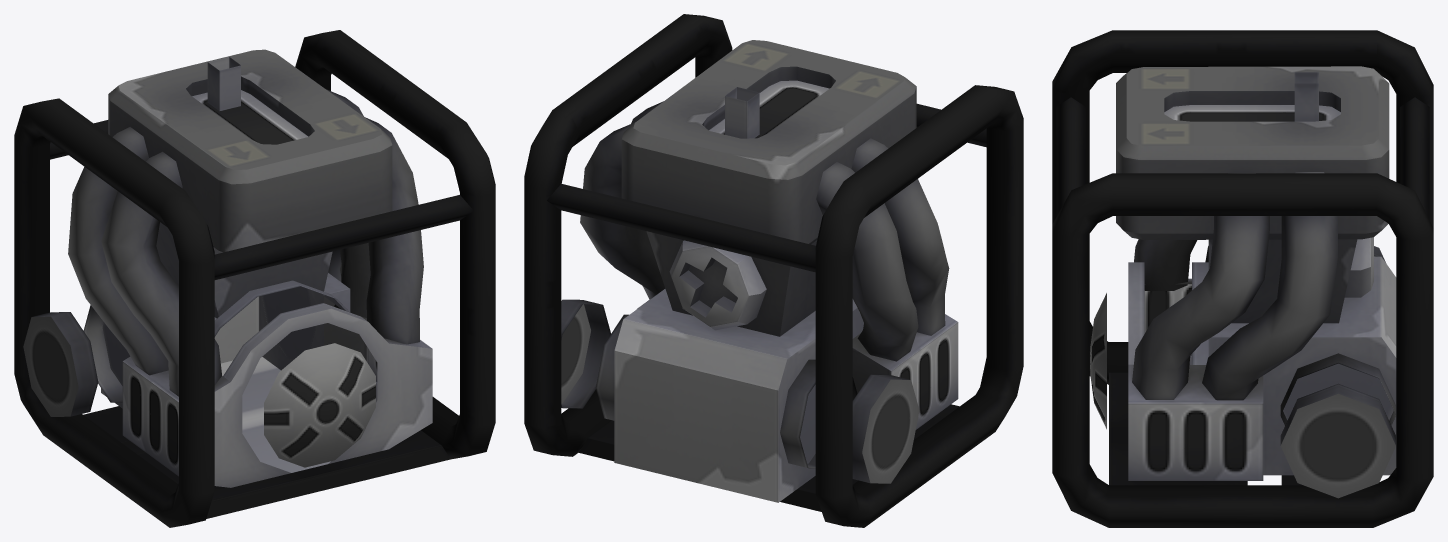
The model's file is obj_interactive_gasengine_off.fbx.
The picture shows the model from 3 angles, left to right: view 1: azimuth 30°, elevation 25°; view 2: azimuth 150°, elevation 25°; view 3: azimuth 270°, elevation 25°; orthographic projection. The views are drawn at different scales.
Parts seen in each view (by area): view 1: obj_interactive_gasengine_off_lod0; view 2: obj_interactive_gasengine_off_lod0; view 3: obj_interactive_gasengine_off_lod0.
Boxes of the visible parts, x1,y1,x2,y2 form: obj_interactive_gasengine_off_lod0: [14, 30, 495, 527]; obj_interactive_gasengine_off_lod0: [524, 14, 1023, 527]; obj_interactive_gasengine_off_lod0: [1052, 30, 1433, 527].
Bounding box in the file's own units: 2 × 2.35 × 2.
Materials: 1 (1 with a texture image).
